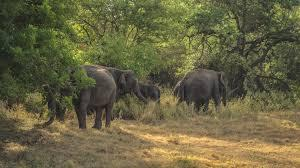elephant: (73, 65, 159, 128), (174, 69, 227, 109), (173, 69, 224, 109)
